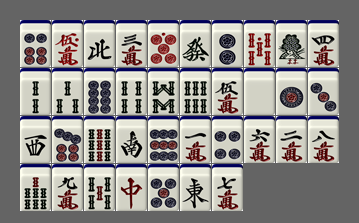0m: (52, 20, 83, 67)
0p: (148, 20, 179, 67)
0s: (244, 20, 275, 67)
1m: (180, 116, 211, 163)
1p: (276, 68, 307, 115)
1s: (276, 20, 307, 67)
1z: (180, 164, 211, 211)
2m: (276, 116, 307, 163)
2p: (212, 20, 243, 67)
2s: (20, 68, 51, 115)
2z: (116, 116, 147, 163)
3m: (116, 20, 147, 67)
3p: (308, 68, 339, 115)
3s: (52, 68, 83, 115)
3z: (20, 116, 51, 163)
4m: (308, 20, 339, 67)
4p: (212, 116, 243, 163)
4s: (116, 68, 147, 115)
4z: (84, 20, 115, 67)
5m: (212, 68, 243, 115)
5p: (148, 164, 179, 211)
5s: (84, 164, 115, 211)
5z: (244, 68, 275, 115)
6m: (244, 116, 275, 163)
6p: (20, 20, 51, 67)
6s: (180, 68, 211, 115)
6z: (180, 20, 211, 67)
7m: (212, 164, 243, 211)
7p: (52, 116, 83, 163)
7s: (20, 164, 51, 211)
7z: (116, 164, 147, 211)
8m: (308, 116, 339, 163)
8p: (84, 68, 115, 115)
8s: (148, 68, 179, 115)
9m: (52, 164, 83, 211)
9p: (148, 116, 179, 163)
9s: (84, 116, 115, 163)
